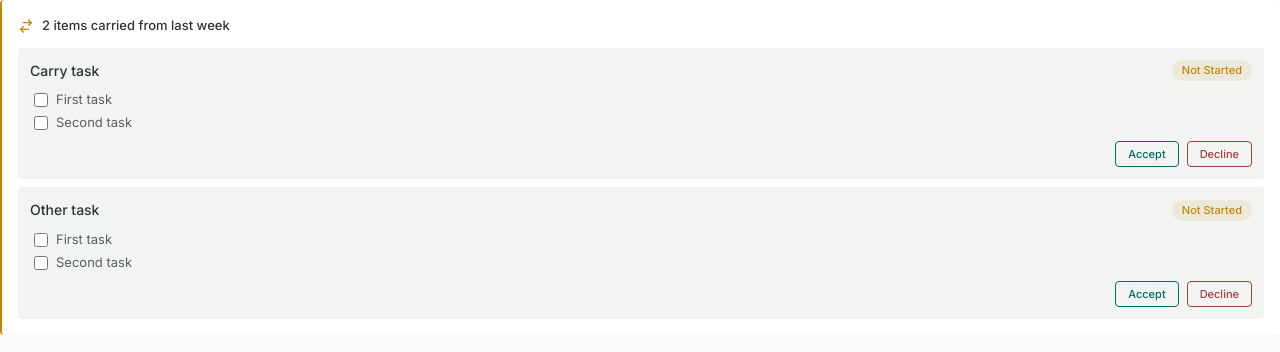
Scenario: CarryForwardPanel › accept interaction › marks an item as accepted when Accept is clicked
Click the 1st button "Accept".
click(1147, 154)  # box top-left (1115, 141), bottom-right (1179, 167)
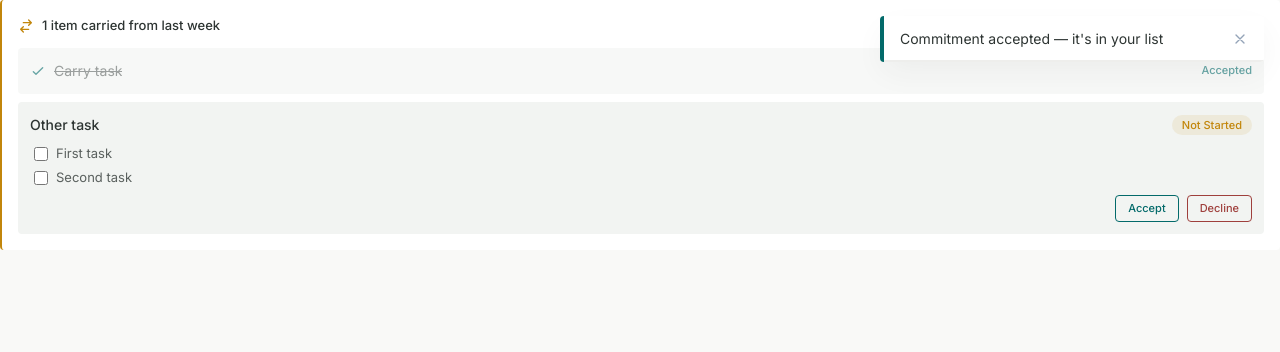
Check: the text "Accepted" is shown, box top-left (1201, 62), bottom-right (1252, 79)
